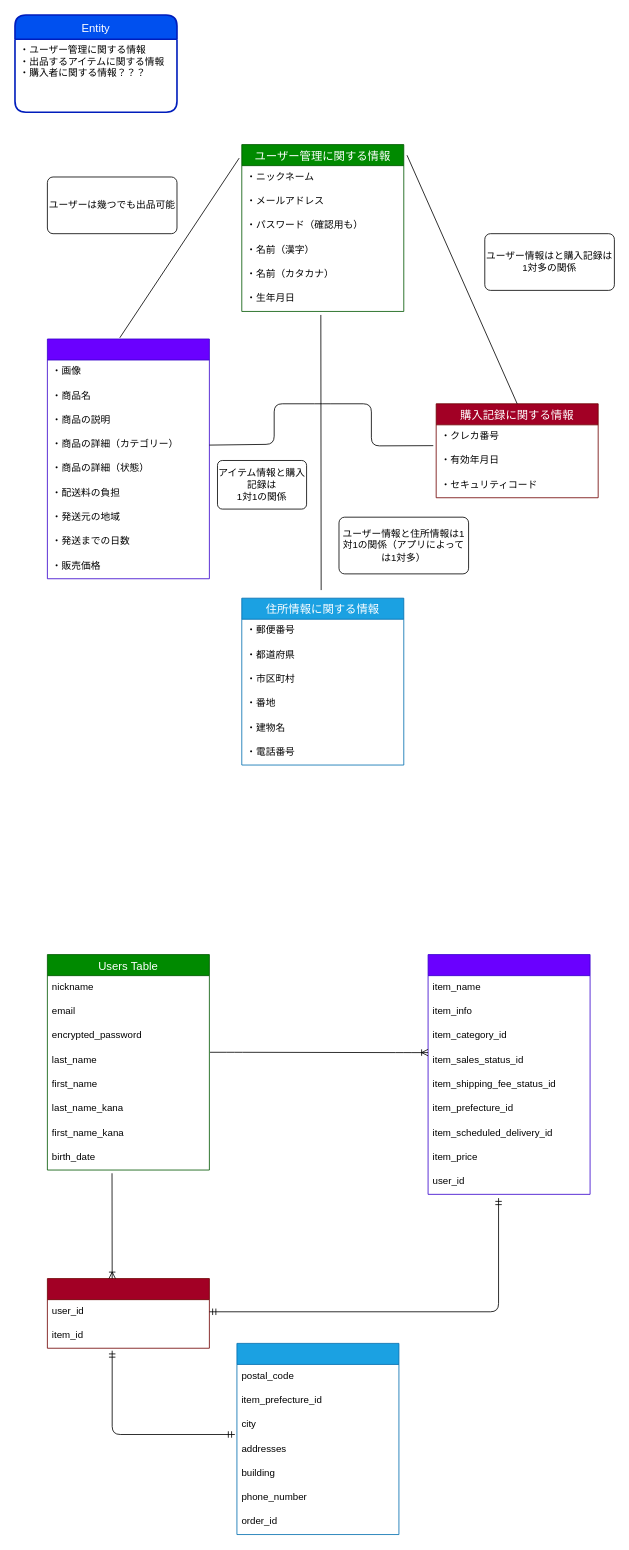
Image size: 629x1550. Some labels were removed from this diagram. The shapes that lost their labels are listed below. From the top down, each one's box as (x1, y1, x2, y2) in pixels, then its label:
(47, 338, 209, 579): 出品するアイテムに関する情報
(427, 954, 590, 1194): Items Table
(47, 1278, 209, 1348): Orders Table
(236, 1343, 399, 1535): Addresses Table
